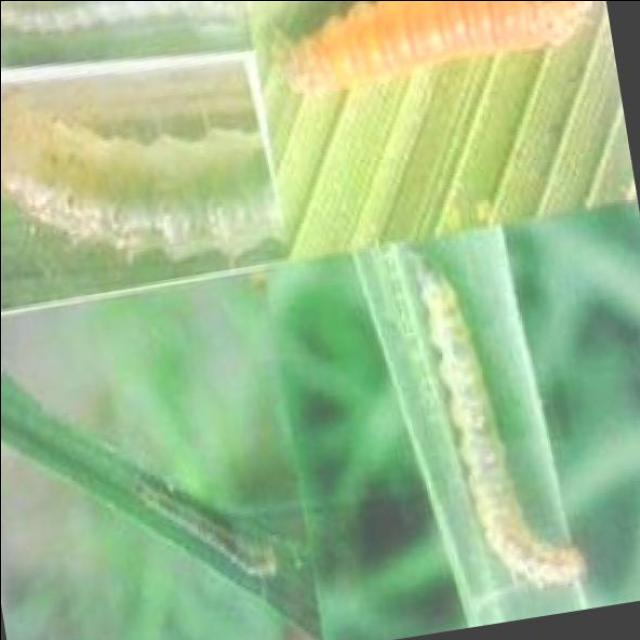leaf folder: (0, 59, 279, 262), (417, 267, 583, 585), (286, 0, 593, 94), (133, 475, 277, 581)
